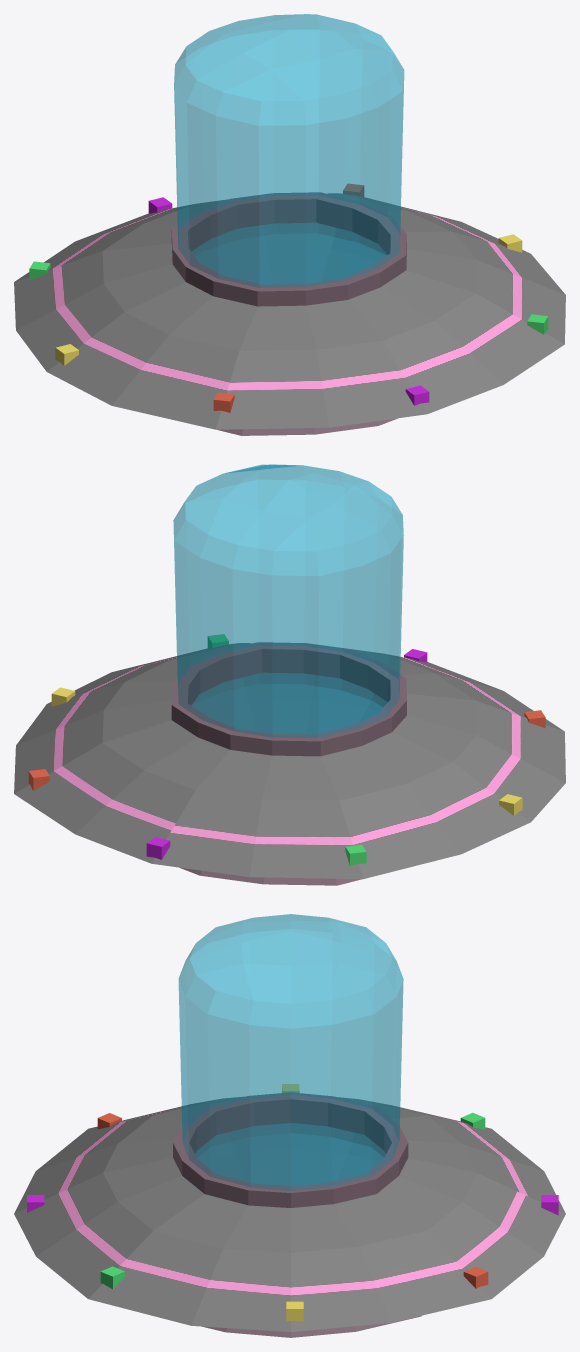
Rendered from Nave.glb.
3 views of the same model, one above another, from view 1: azimuth 30°, elevation 25°; view 2: azimuth 150°, elevation 25°; view 3: azimuth 270°, elevation 25° (orthographic).
Visible parts, largest first — view 1: Nave; view 2: Nave; view 3: Nave.
Boxes of the visible parts, x1,y1,x2,y2 form: Nave: (14, 14, 565, 435); Nave: (14, 464, 565, 885); Nave: (14, 914, 565, 1337).
Size of the model in its own units: 3.76 by 2.45 by 3.71.
Materials: 6 (1 with a texture image).
